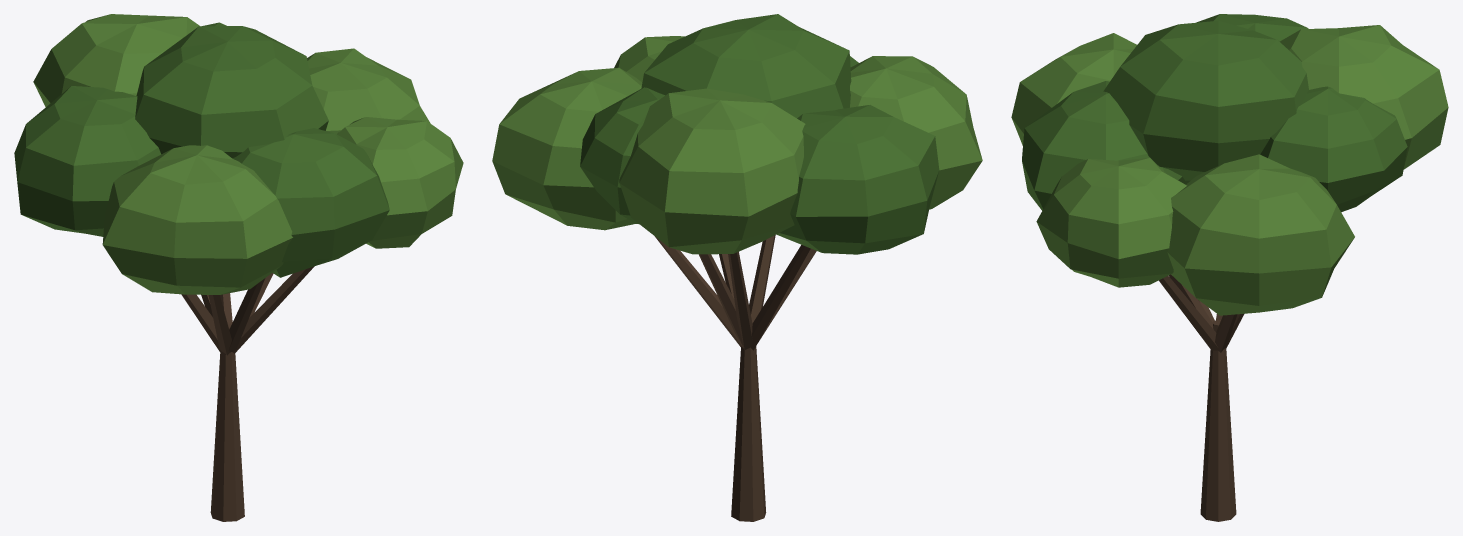
The model's file is tree_elm_medium.glb.
The picture shows the model from 3 angles, left to right: view 1: azimuth 30°, elevation 25°; view 2: azimuth 150°, elevation 25°; view 3: azimuth 270°, elevation 25°; orthographic projection. The views are drawn at different scales.
Visible parts, largest first — view 1: tree_elm_medium; view 2: tree_elm_medium; view 3: tree_elm_medium.
Part boxes in pixels (x1,y1,x2,y2): tree_elm_medium: (14,14,463,521); tree_elm_medium: (492,14,982,521); tree_elm_medium: (1011,14,1448,521).
Size of the model in its own units: 8.41 by 9.53 by 7.85.
